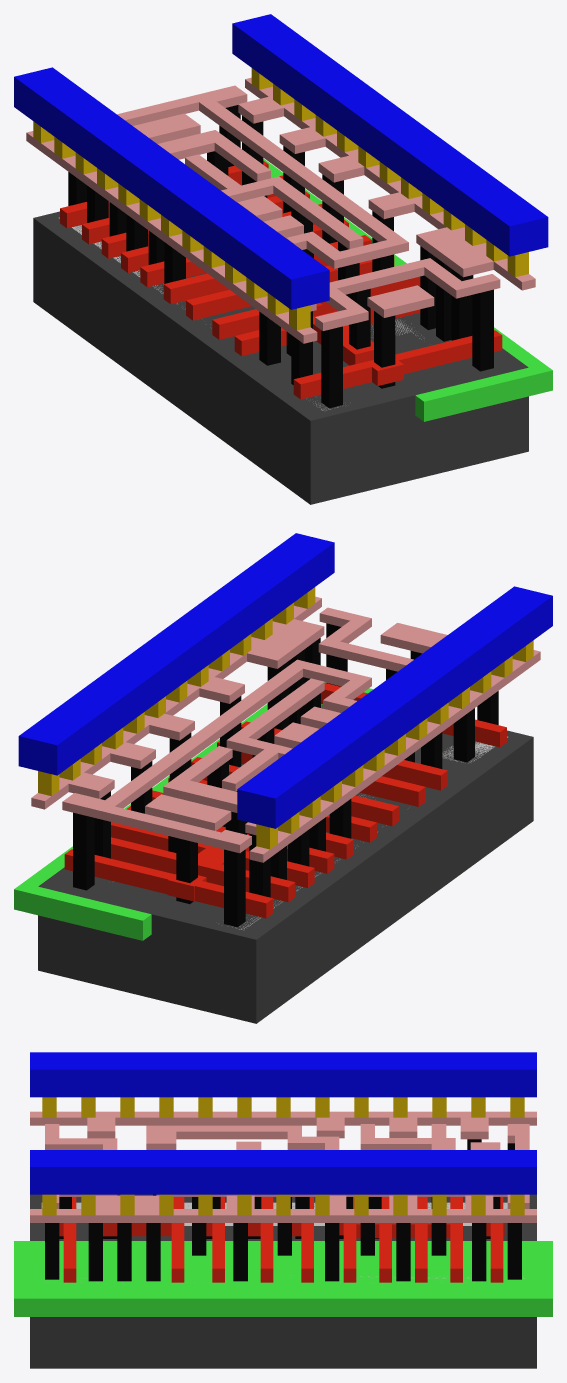
File: sky130_fd_sc_hd__and4bb_4.obj
3 views of the same model, one above another, from view 1: azimuth 30°, elevation 25°; view 2: azimuth 150°, elevation 25°; view 3: azimuth 270°, elevation 25° (orthographic). The views are drawn at different scales.
Parts seen in each view (by area): view 1: subs, metal1, li, licon, poly, mcon, nwell; view 2: subs, metal1, li, poly, licon, mcon, nwell; view 3: metal1, nwell, subs, li, licon, poly, mcon, diff.
Boxes of the visible parts, box(x1,y1,x2,y2) form: subs: box(33, 211, 528, 504); metal1: box(14, 14, 548, 309); li: box(26, 77, 535, 343); licon: box(68, 105, 493, 408); poly: box(60, 160, 502, 399); mcon: box(33, 68, 528, 330); nwell: box(263, 158, 552, 421); subs: box(38, 704, 533, 1023); metal1: box(18, 533, 552, 828); li: box(31, 596, 540, 862); poly: box(64, 683, 506, 918); licon: box(73, 623, 498, 927); mcon: box(38, 587, 533, 849); nwell: box(14, 682, 373, 940); metal1: box(30, 1052, 536, 1194); nwell: box(14, 1241, 552, 1316); subs: box(30, 1194, 536, 1368); li: box(30, 1111, 536, 1222); licon: box(45, 1139, 521, 1281); poly: box(59, 1197, 504, 1282); mcon: box(42, 1097, 524, 1215); diff: box(41, 1202, 507, 1225).
Bounding box in the file's own units: 3.2 × 2.74 × 6.36.
